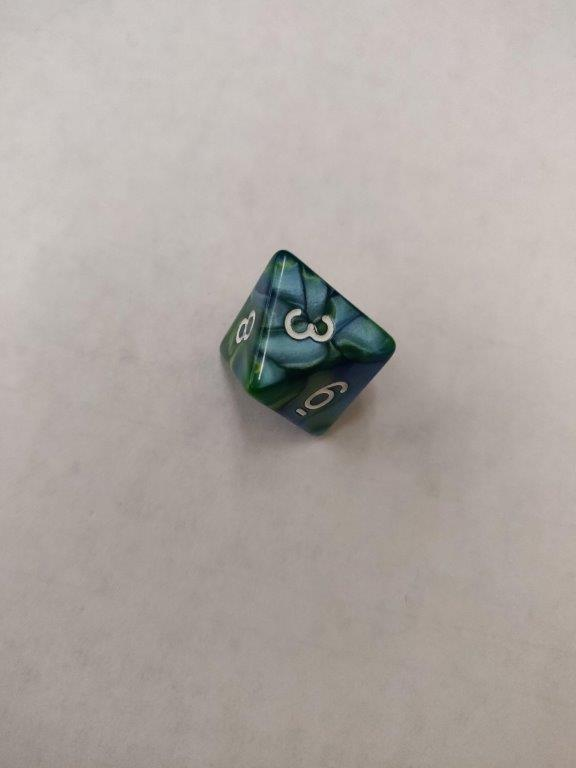d8-3: (217, 249, 400, 441)
